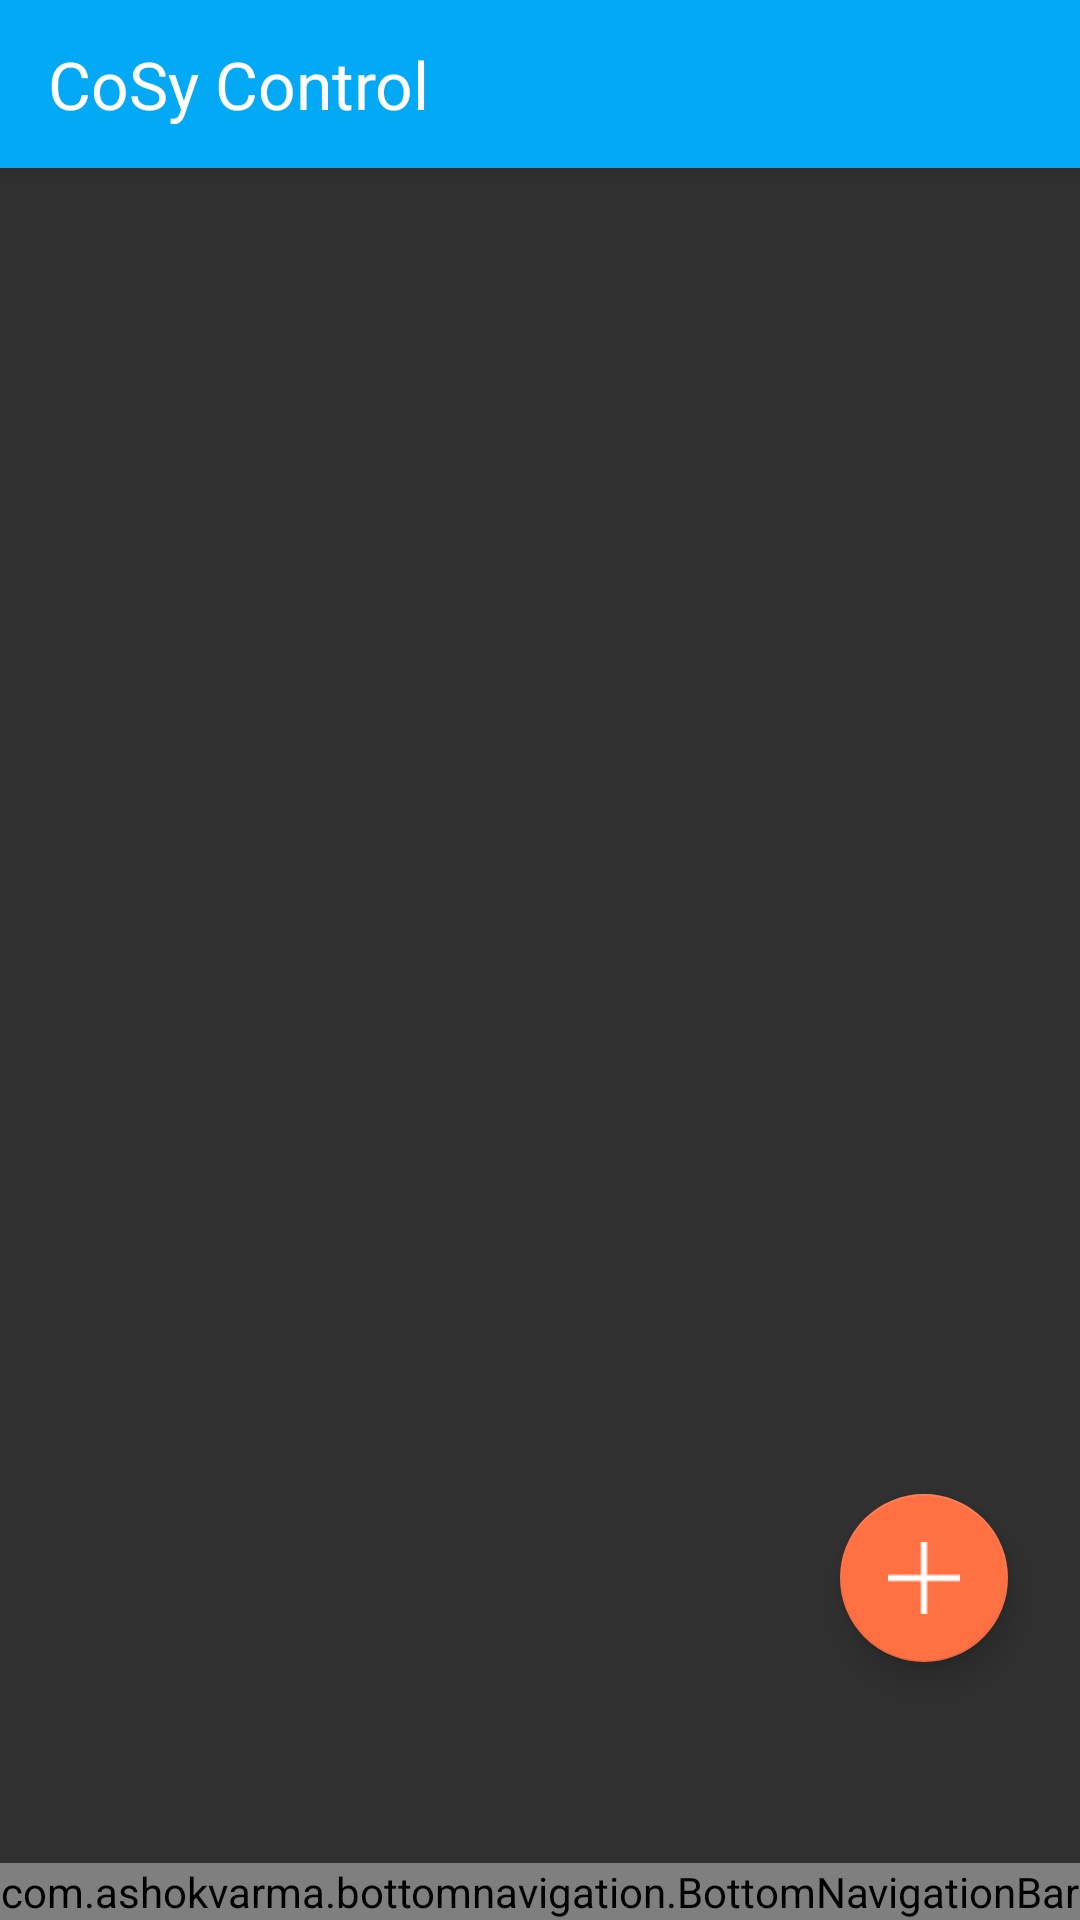

Named icons in this screenshot (1080x1920) and their bounding boxes, bbox=[x1, y1, x2, y2]:
add: bbox=[840, 1494, 1008, 1662]
